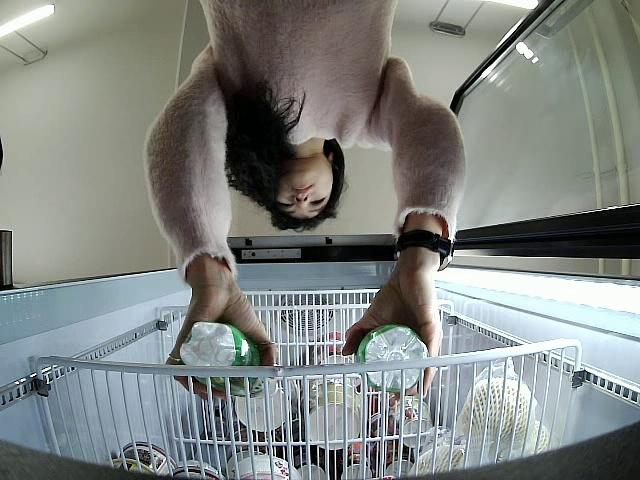00_hand: (163, 282, 281, 401), (341, 273, 443, 402)
18_trevi: (177, 318, 279, 402), (354, 320, 431, 395)
